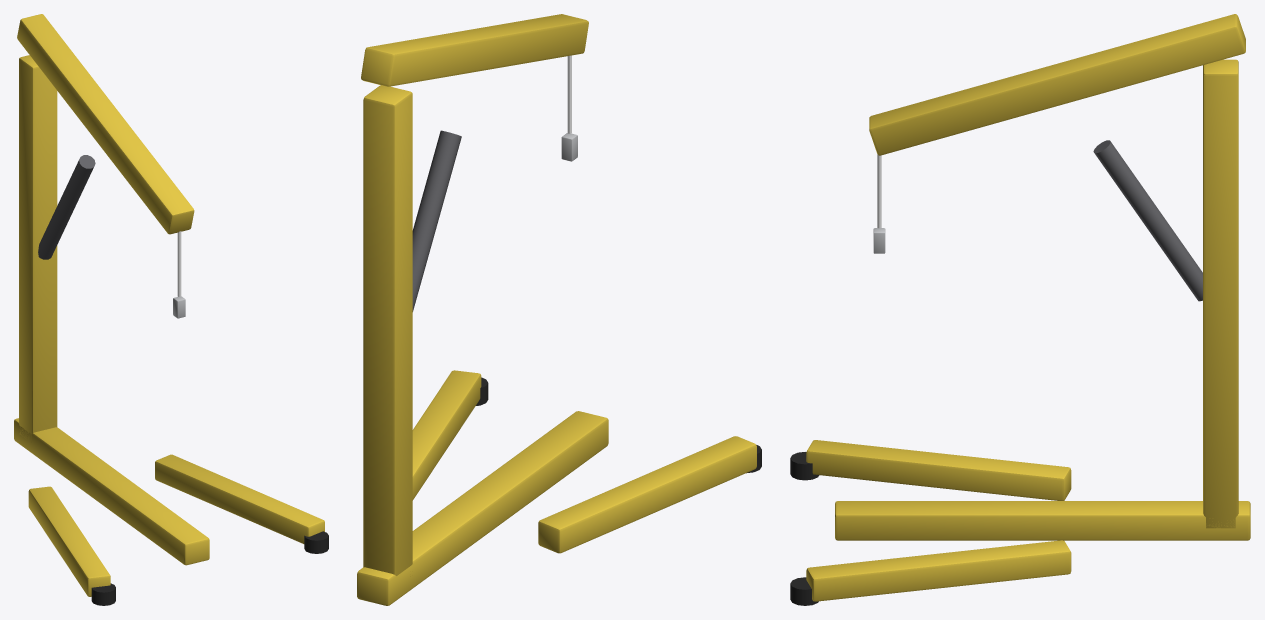
Rendered from g_hoist.fbx.
3 renders of one model, left to right at view 1: azimuth 30°, elevation 25°; view 2: azimuth 150°, elevation 25°; view 3: azimuth 270°, elevation 25°, orthographic. The views are drawn at different scales.
Visible parts, largest first — view 1: g_hoist_yellow, g_hoist_darksteel, g_hoist_rubber; view 2: g_hoist_yellow, g_hoist_darksteel; view 3: g_hoist_yellow, g_hoist_darksteel, g_hoist_rubber.
Boxes of the visible parts, x1=… form: g_hoist_yellow: x1=14, y1=14, x2=324, y2=596; g_hoist_darksteel: x1=38, y1=155, x2=95, y2=259; g_hoist_rubber: x1=91, y1=531, x2=328, y2=605; g_hoist_yellow: x1=357, y1=14, x2=756, y2=605; g_hoist_darksteel: x1=412, y1=130, x2=461, y2=311; g_hoist_yellow: x1=806, y1=14, x2=1250, y2=601; g_hoist_darksteel: x1=1093, y1=140, x2=1202, y2=301; g_hoist_rubber: x1=790, y1=452, x2=819, y2=605.
Size of the model in its own units: 1.11 by 1.92 by 1.55.
